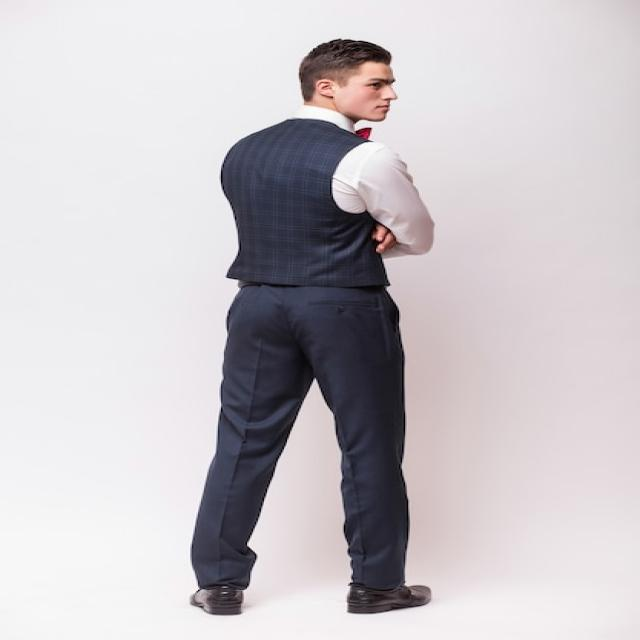Person: (188, 38, 434, 618)
